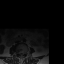CCS_normal: (20, 52, 22, 58)
LFS_stenosis: (23, 52, 24, 55)
LLS_stenosis: (22, 52, 23, 55)
RFS_severe_stenosis: (18, 52, 19, 55)
RLS_stenosis: (19, 52, 21, 56)
